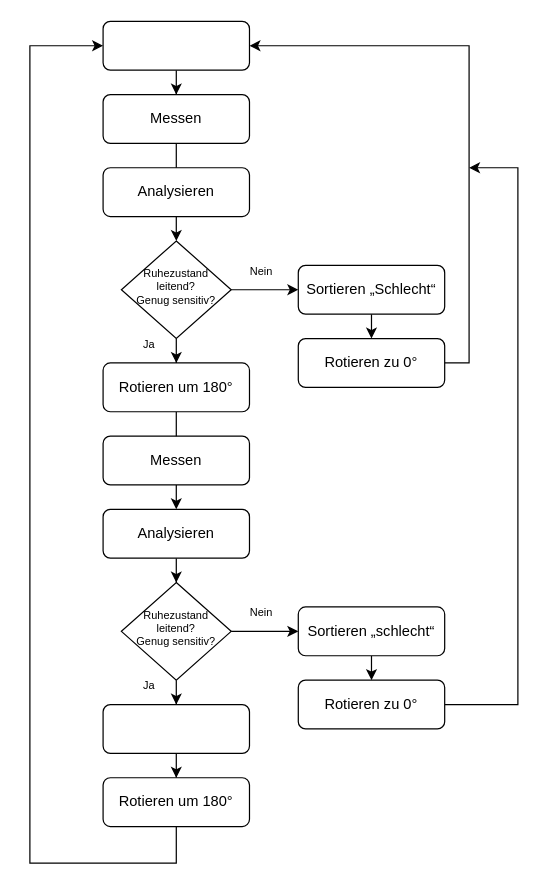
Some shapes in this 549 by 894 pixel diagram are drawn without their labels. The box of each missing label's shape, as (x1, y1, x2, y2) in pixels:
MVS erkannt: (102, 20, 249, 70)
Sortieren „gut“: (102, 703, 249, 753)
